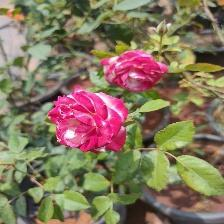rose: (47, 86, 130, 157), (103, 46, 165, 92)
